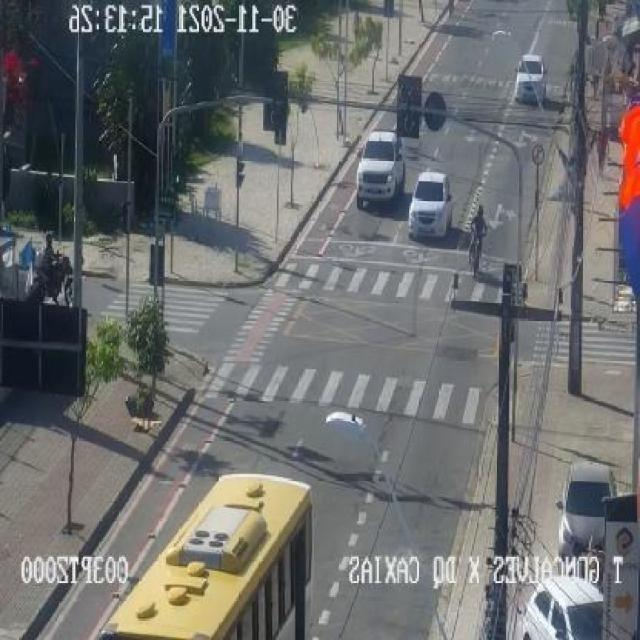Bus: (94, 461, 346, 640)
Car: (539, 447, 637, 551), (517, 566, 618, 640), (342, 120, 418, 210), (499, 41, 569, 115), (402, 169, 464, 248)
Cycle: (448, 209, 504, 282), (24, 242, 84, 306)
